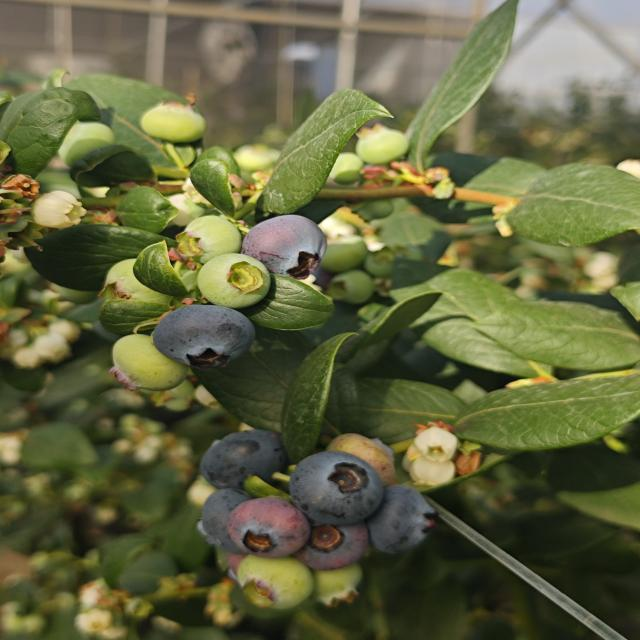ripe: (286, 449, 386, 527), (148, 302, 258, 372), (238, 213, 330, 281), (369, 482, 434, 556), (226, 493, 297, 553), (202, 434, 280, 486), (195, 488, 248, 540), (308, 516, 360, 564)
